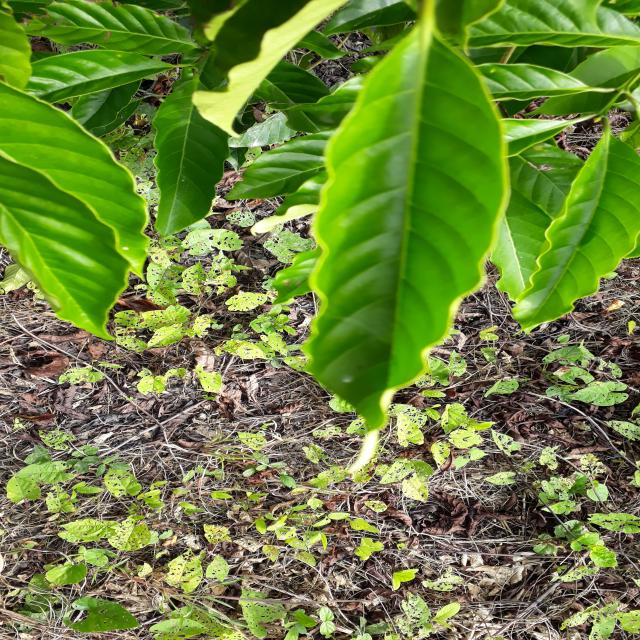Sanas: (303, 0, 510, 432)
